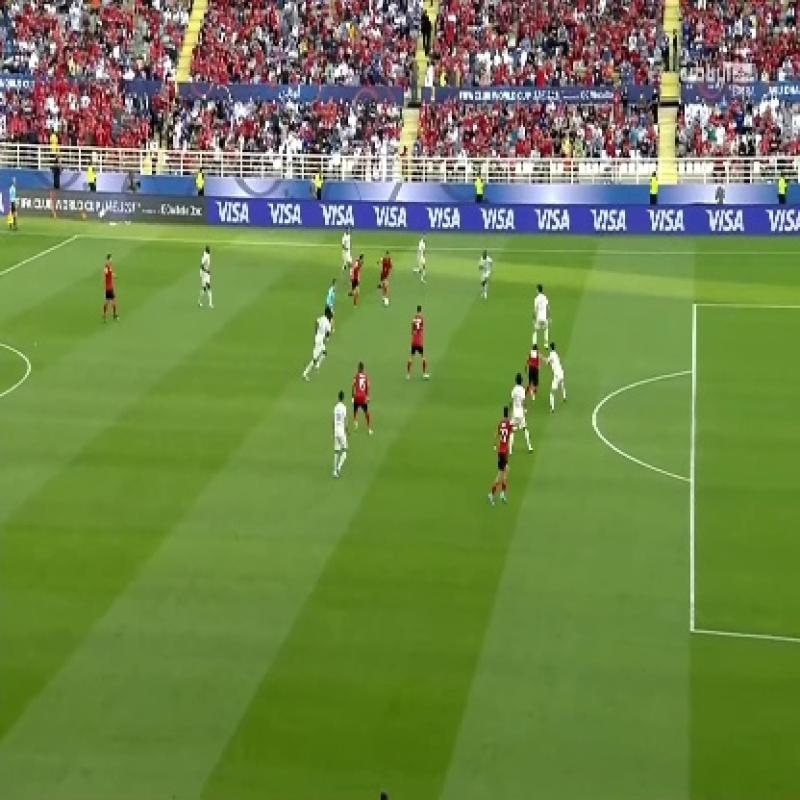10: (678, 356, 707, 389)
11: (672, 464, 708, 497)
12: (670, 611, 714, 650)
13: (71, 226, 83, 240)
9: (685, 295, 705, 317)
c: (14, 373, 28, 391)
